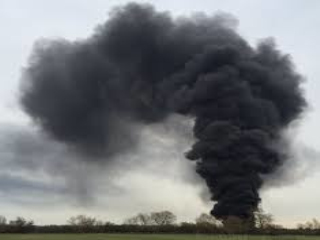smoke: (108, 16, 296, 231)
